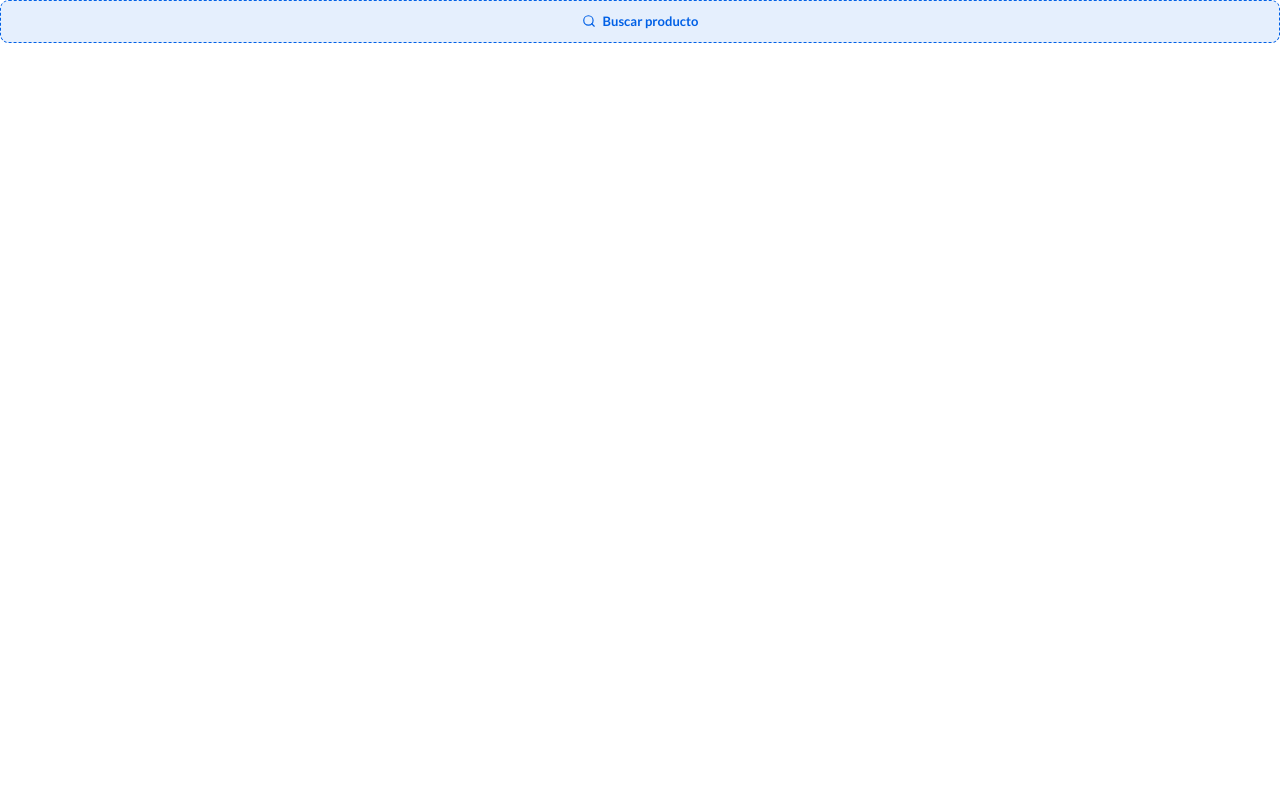
Test: BuscadorProductoMovil (D-038) › sin permiso el precio no es editable; en traspaso no hay precio
Later steps or results of the test are not shown.
Click the button "Buscar producto" at (640, 21), box 0,0 -> 1279,42
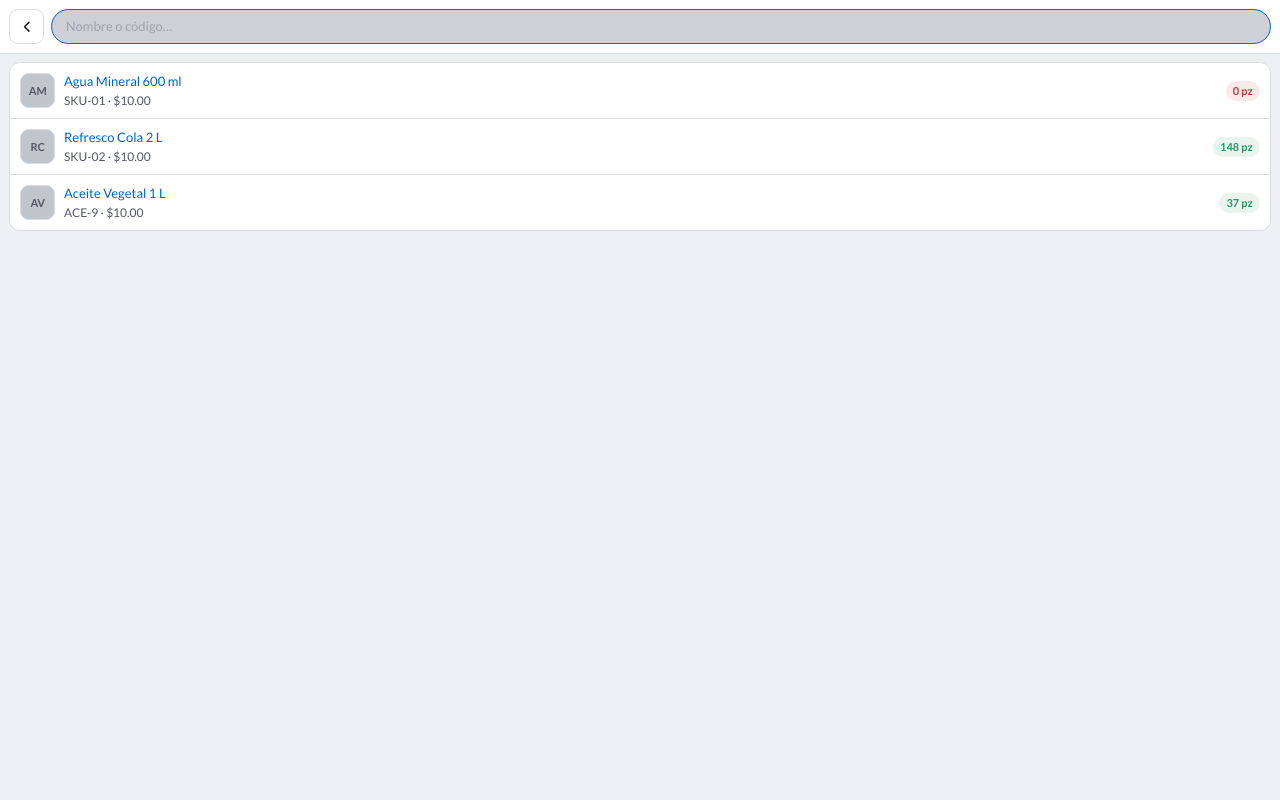
Click the button "RC Refresco Cola 2 L SKU-02 · $10.00 148 pz" at (38, 147), box 10,119 -> 1270,174
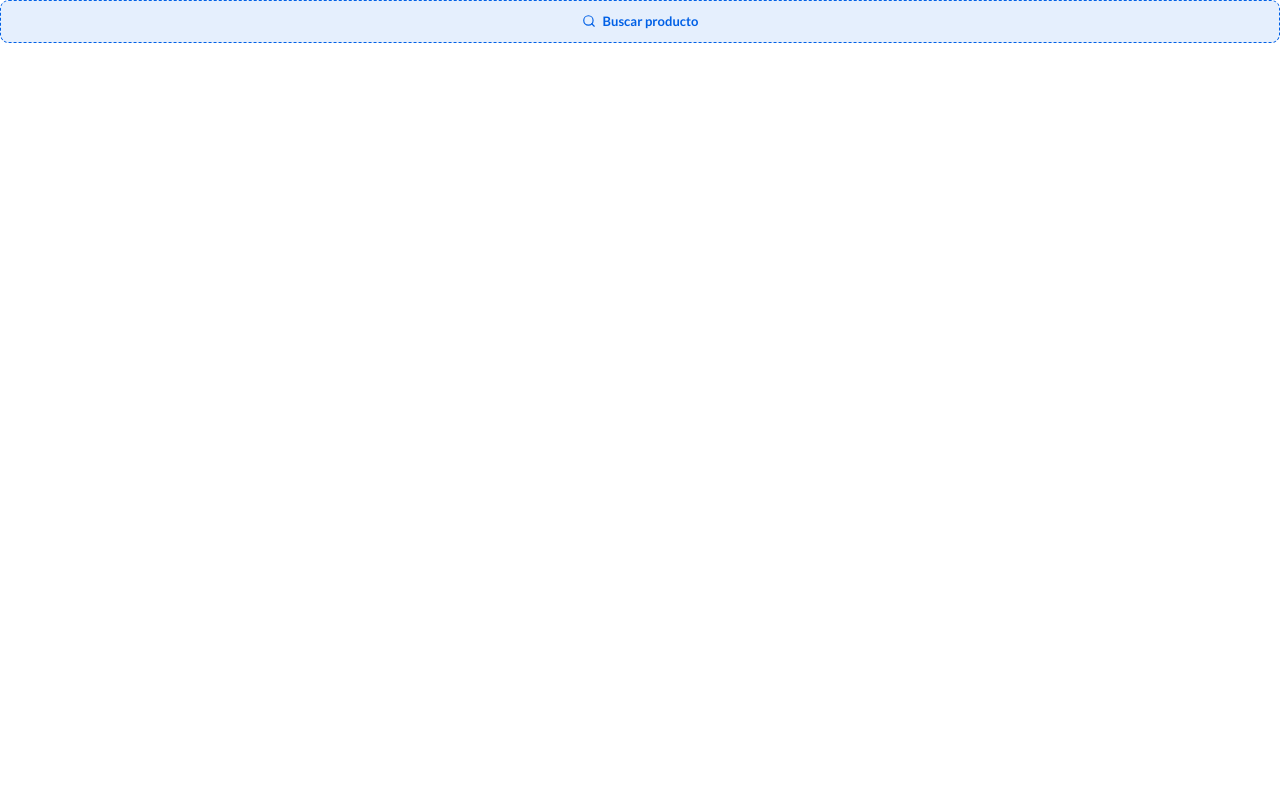
Click the button "Buscar producto" at (640, 21), box 0,0 -> 1279,42
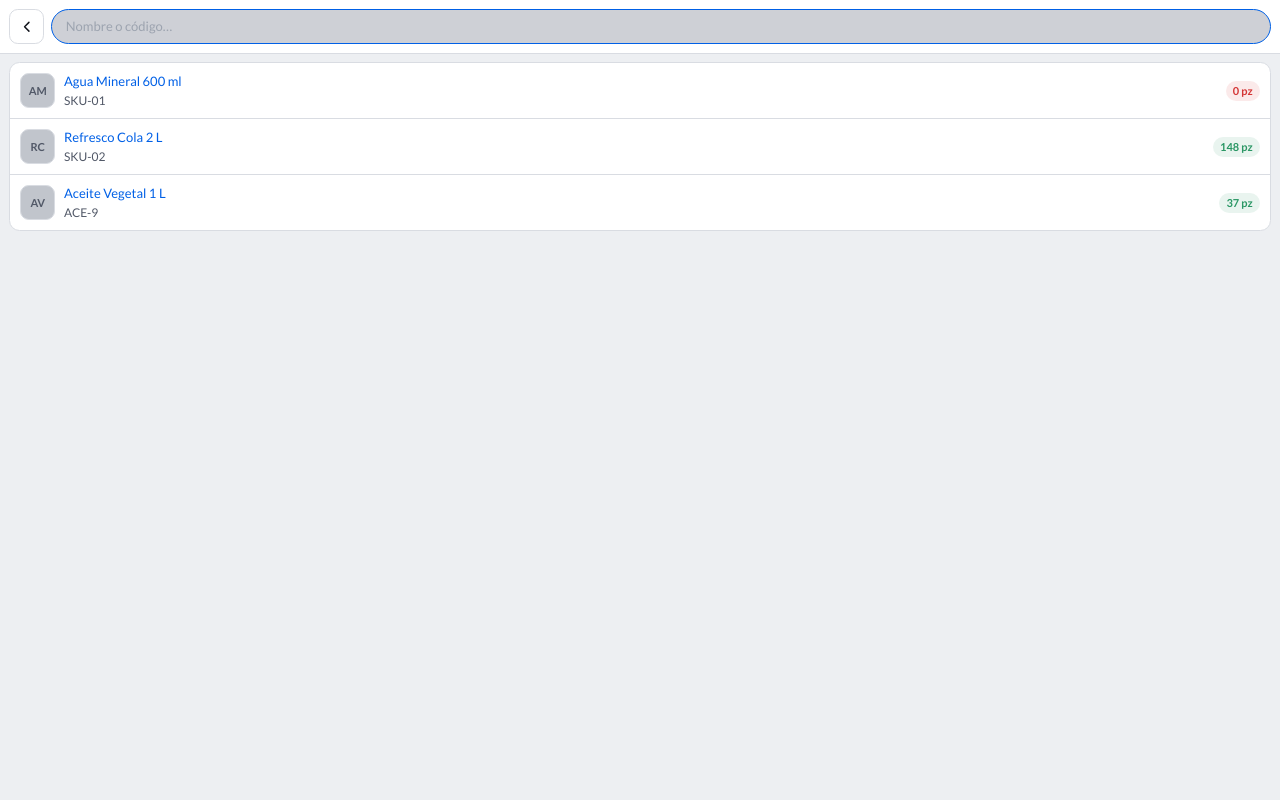
Click the button "AV Aceite Vegetal 1 L ACE-9 37 pz" at (38, 203), box 10,175 -> 1270,230
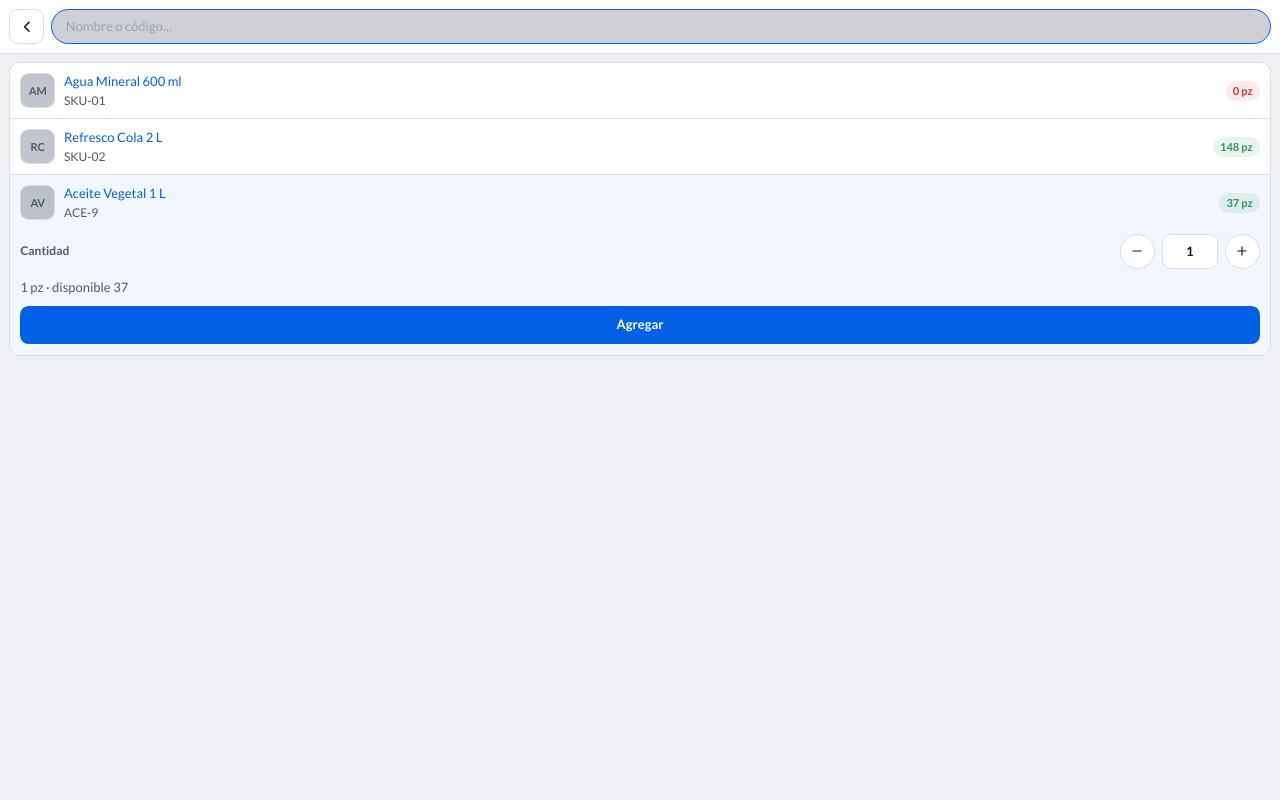
Expected: the dialog shows "disponible 37", 44,278 -> 128,294
